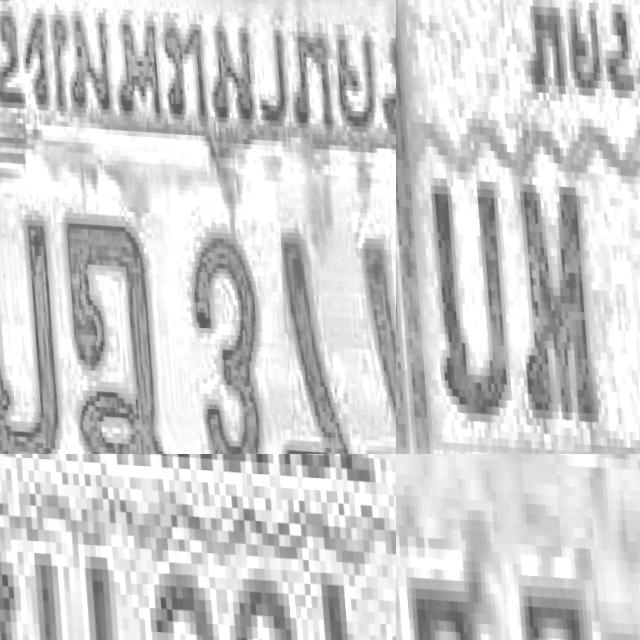license-plate: (0, 0, 396, 454), (396, 0, 640, 454), (0, 454, 396, 640), (396, 454, 640, 640)
